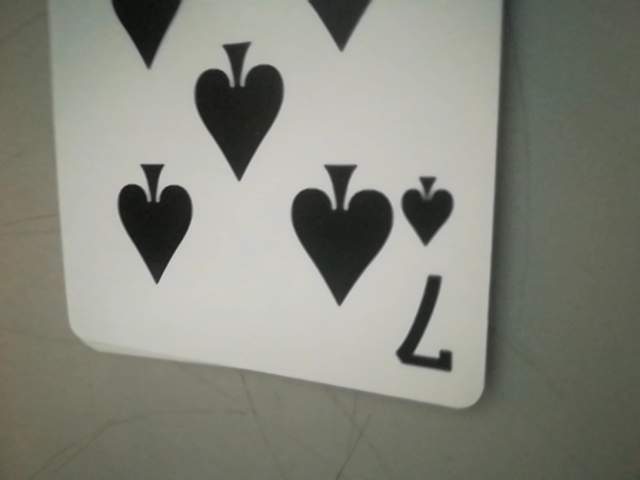ht 7: (397, 176, 455, 372)
